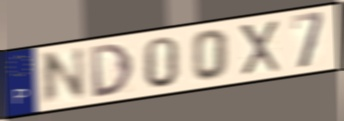0: (189, 28, 232, 83), (141, 35, 181, 89)
7: (290, 9, 325, 72)
D: (88, 41, 136, 100)
N: (40, 44, 88, 109)
X: (237, 18, 282, 78)
